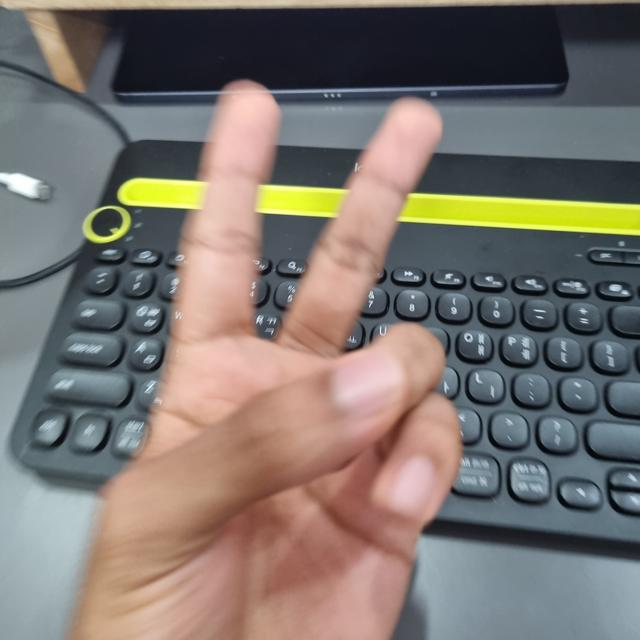Scissors: (57, 84, 452, 640)
